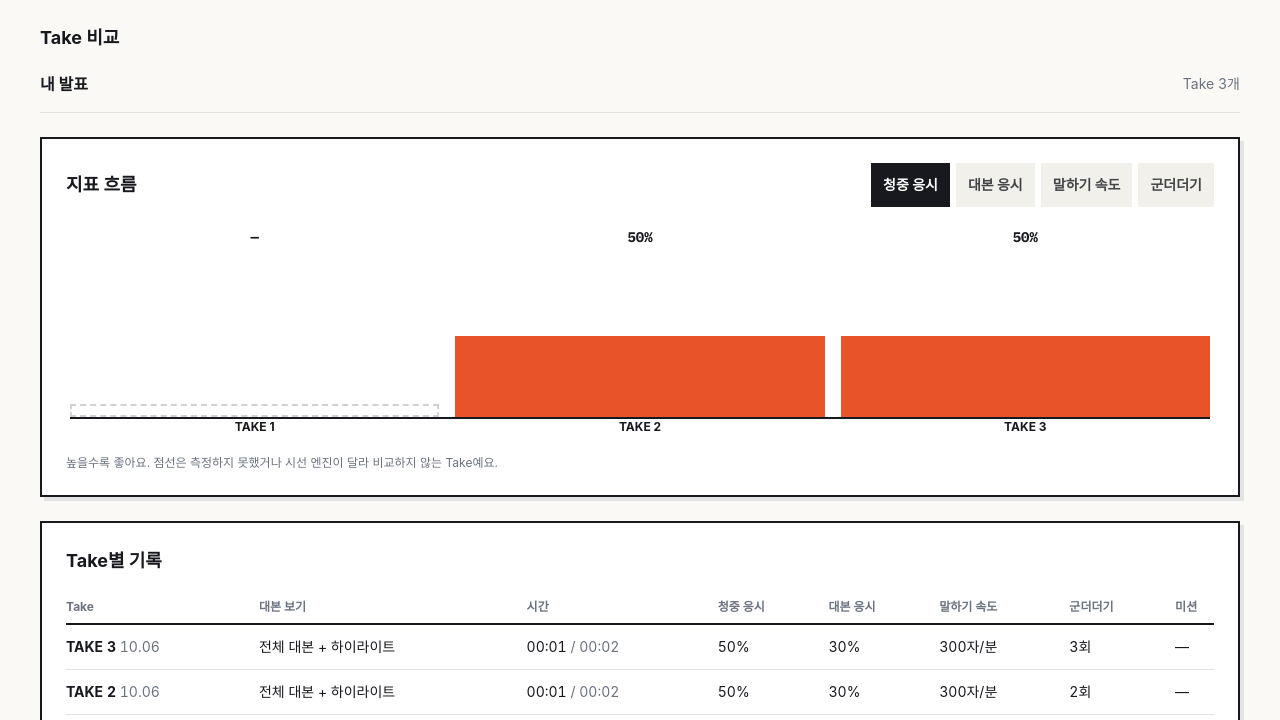
Test: keeps old-engine gaze values excluded while allowing other metrics and keyboard table access
This screenshot has width=1280, height=720.
expect the list item "—" is shown: met, box [70, 227, 439, 417]
Click the tab "군더더기".
click(1176, 185)  # box [1138, 163, 1214, 207]
(page scrolled)
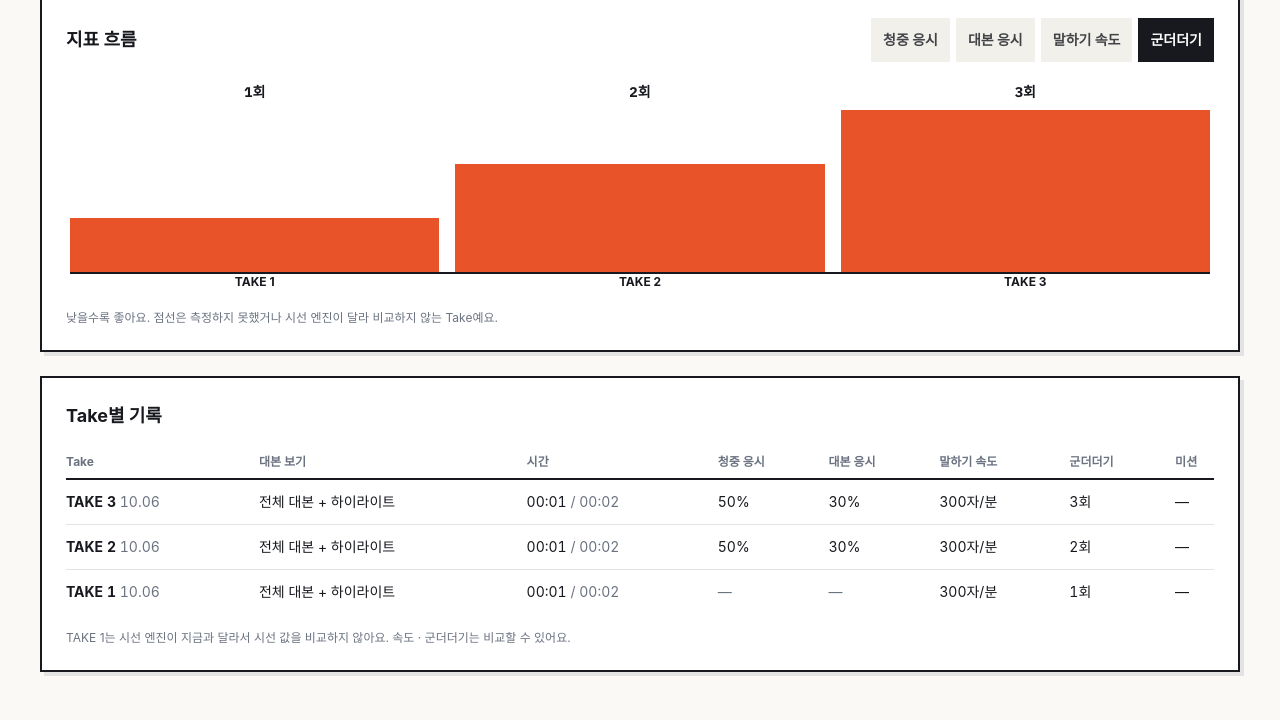
expect the list item "1회" is shown: met, box [70, 82, 439, 272]
